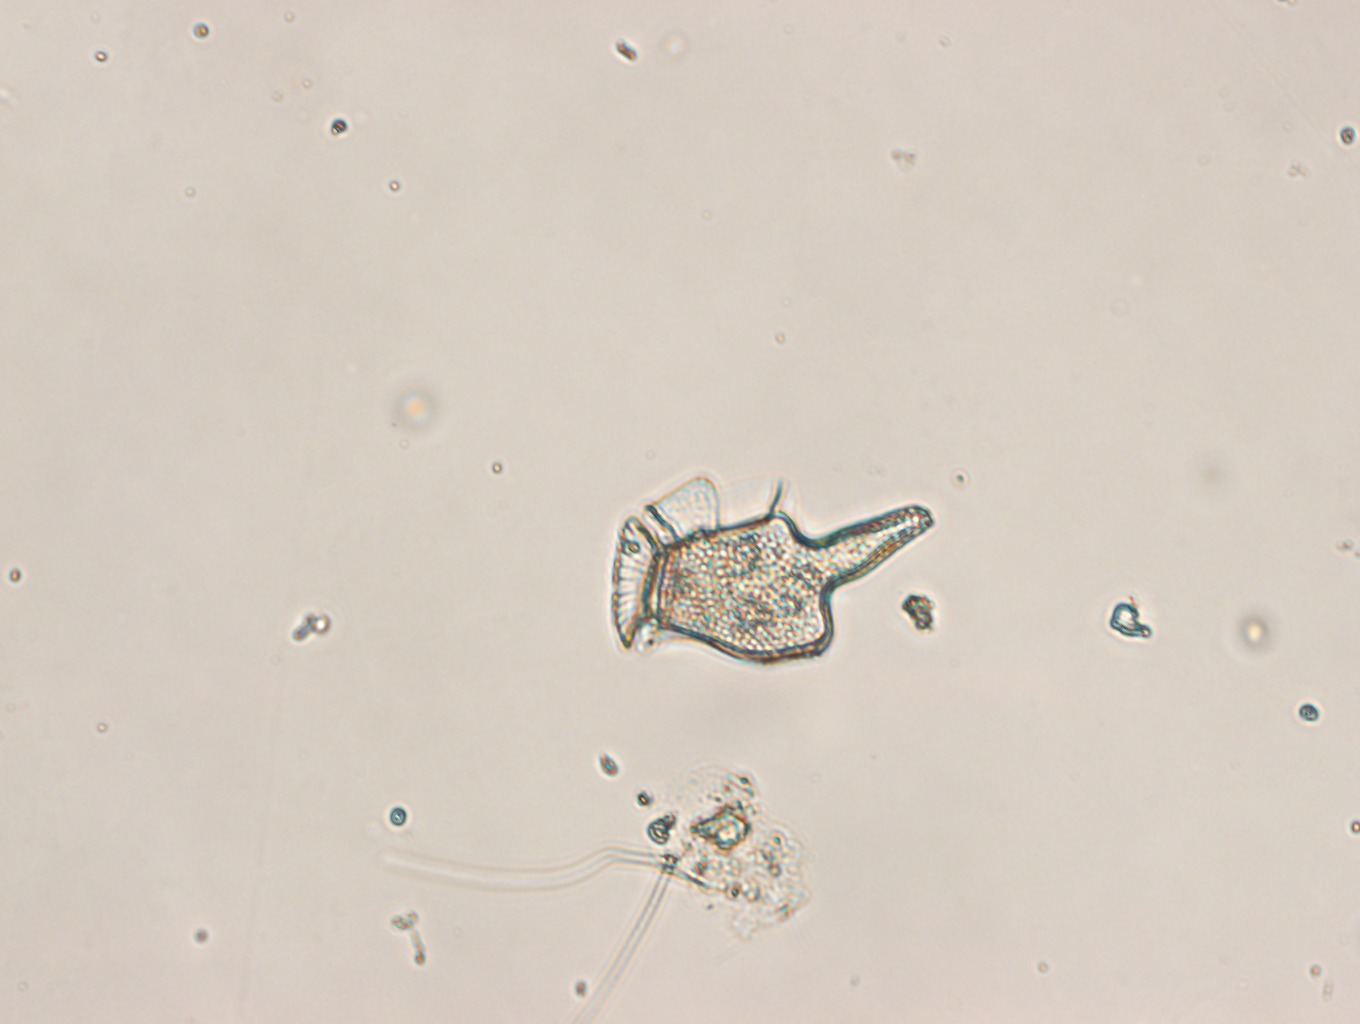dinophysis caudata: (610, 473, 937, 666)
